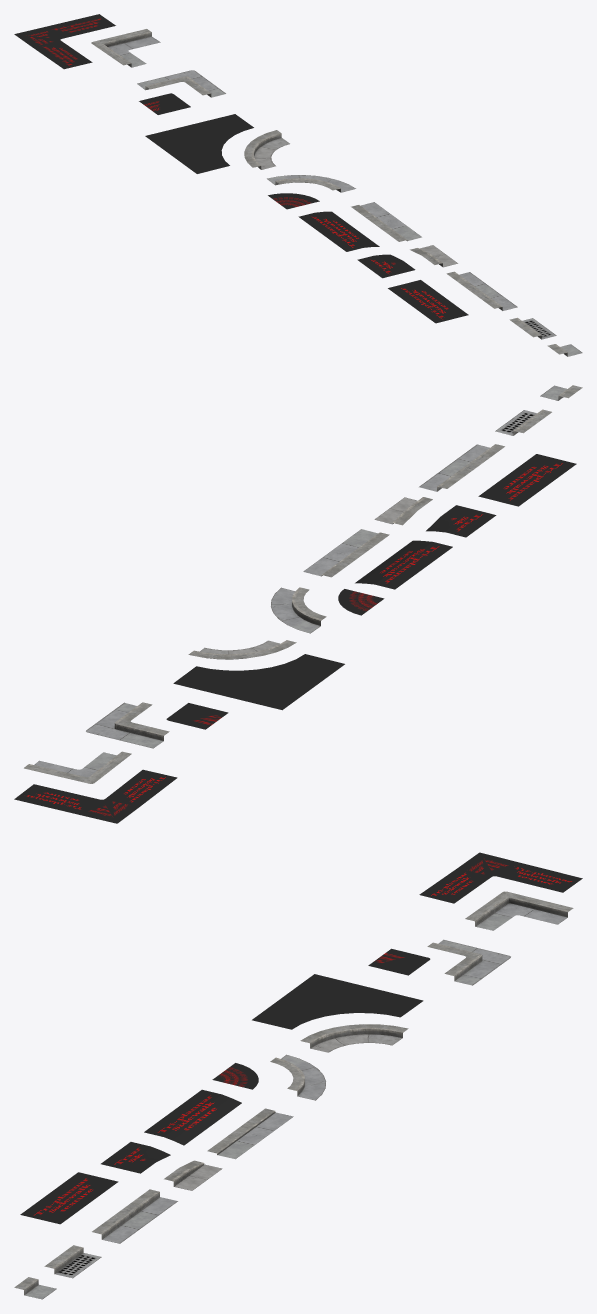
File: modular_sidewalk_curb_kit.glb
3 renders of one model, top to bottom at view 1: azimuth 30°, elevation 25°; view 2: azimuth 150°, elevation 25°; view 3: azimuth 330°, elevation 25°, orthographic. The views are drawn at different scales.
Visible parts, largest first — view 1: CurbSidewalkInvertedCornerAngled, CurbSidewalkInvertedCornerSharp, CurbSidewalkStraight, CurbStraightSidewalkLow, CurbInvertedCornerSharp, CurbStraightLow, CurbInvertedCornerAngled, CurbCornerSharp, CurbStraight, CurbStraightSidewalkTransition, CurbCornerAngled, CurbSidewalkCornerSharp (+3 smaller); view 2: CurbSidewalkInvertedCornerAngled, CurbSidewalkInvertedCornerSharp, CurbSidewalkStraight, CurbStraightSidewalkLow, CurbCornerSharp, CurbStraightLow, CurbCornerAngled, CurbInvertedCornerSharp, CurbStraight, CurbStraightSidewalkTransition, CurbInvertedCornerAngled, CurbSidewalkCornerSharp (+3 smaller); view 3: CurbSidewalkInvertedCornerAngled, CurbSidewalkInvertedCornerSharp, CurbStraightSidewalkLow, CurbSidewalkStraight, CurbInvertedCornerSharp, CurbStraight, CurbInvertedCornerAngled, CurbStraightLow, CurbCornerSharp, CurbCornerAngled, CurbStraightSidewalkTransition, CurbStraightShort (+3 smaller).
Boxes of the visible parts, left/top/right/bottom form: CurbSidewalkInvertedCornerAngled: left=145, top=114, right=253, bottom=173; CurbSidewalkInvertedCornerSharp: left=14, top=14, right=115, bottom=69; CurbSidewalkStraight: left=388, top=280, right=468, bottom=323; CurbStraightSidewalkLow: left=298, top=211, right=379, bottom=251; CurbInvertedCornerSharp: left=91, top=29, right=160, bottom=67; CurbStraightLow: left=351, top=202, right=421, bottom=241; CurbInvertedCornerAngled: left=244, top=130, right=289, bottom=169; CurbCornerSharp: left=137, top=70, right=225, bottom=97; CurbStraight: left=446, top=271, right=517, bottom=310; CurbStraightSidewalkTransition: left=357, top=254, right=415, bottom=278; CurbCornerAngled: left=267, top=175, right=355, bottom=192; CurbSidewalkCornerSharp: left=139, top=93, right=190, bottom=114; CurbSidewalkInvertedCornerAngled: left=173, top=654, right=344, bottom=710; CurbSidewalkInvertedCornerSharp: left=14, top=769, right=177, bottom=823; CurbSidewalkStraight: left=478, top=454, right=576, bottom=506; CurbStraightSidewalkLow: left=355, top=540, right=452, bottom=589; CurbCornerSharp: left=86, top=702, right=169, bottom=748; CurbStraightLow: left=303, top=529, right=389, bottom=577; CurbCornerAngled: left=271, top=587, right=326, bottom=633; CurbInvertedCornerSharp: left=24, top=751, right=131, bottom=783; CurbStraight: left=419, top=444, right=504, bottom=491; CurbStraightSidewalkTransition: left=426, top=505, right=496, bottom=537; CurbInvertedCornerAngled: left=188, top=640, right=296, bottom=659; CurbSidewalkCornerSharp: left=166, top=703, right=228, bottom=729; CurbSidewalkInvertedCornerAngled: left=252, top=974, right=423, bottom=1029; CurbSidewalkInvertedCornerSharp: left=419, top=852, right=582, bottom=903; CurbStraightSidewalkLow: left=144, top=1089, right=241, bottom=1145; CurbSidewalkStraight: left=20, top=1172, right=118, bottom=1224; CurbInvertedCornerSharp: left=465, top=891, right=573, bottom=930; CurbStraight: left=92, top=1189, right=177, bottom=1243; CurbInvertedCornerAngled: left=300, top=1024, right=408, bottom=1052; CurbStraightLow: left=207, top=1108, right=293, bottom=1159; CurbCornerSharp: left=427, top=939, right=510, bottom=985; CurbCornerAngled: left=270, top=1054, right=325, bottom=1100; CurbStraightSidewalkTransition: left=101, top=1142, right=170, bottom=1173; CurbStraightShort: left=44, top=1245, right=101, bottom=1278.
Bounding box in the file's own units: 390 × 30.22 × 2895.
Materials: 3 (3 with a texture image).
